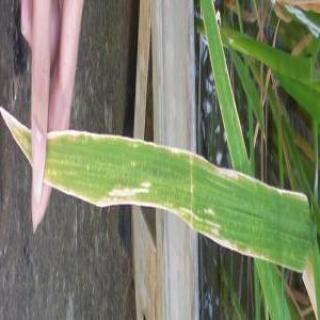Hawar-Daun: (44, 130, 310, 271)
